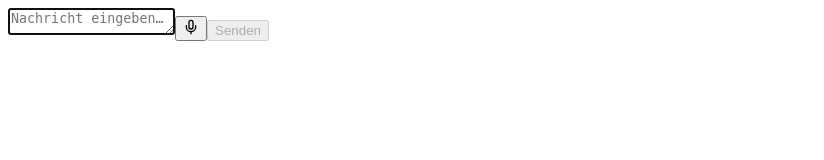
Test: voice input failures are never silent › shows the German worklet error with deChatLocale
The width and height of the screenshot is (824, 160).
Step 1. Click the button named "Spracheingabe starten" → (191, 28), box [175,16,207,41]
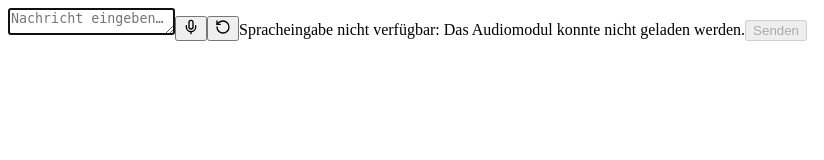
Expected: the message reads "Spracheingabe nicht verfügbar: Das Audiomodul konnte nicht geladen werden.", [239,21,745,38]
Expected: the button named "Aufnahme wiederholen" is shown, [207,16,239,41]
